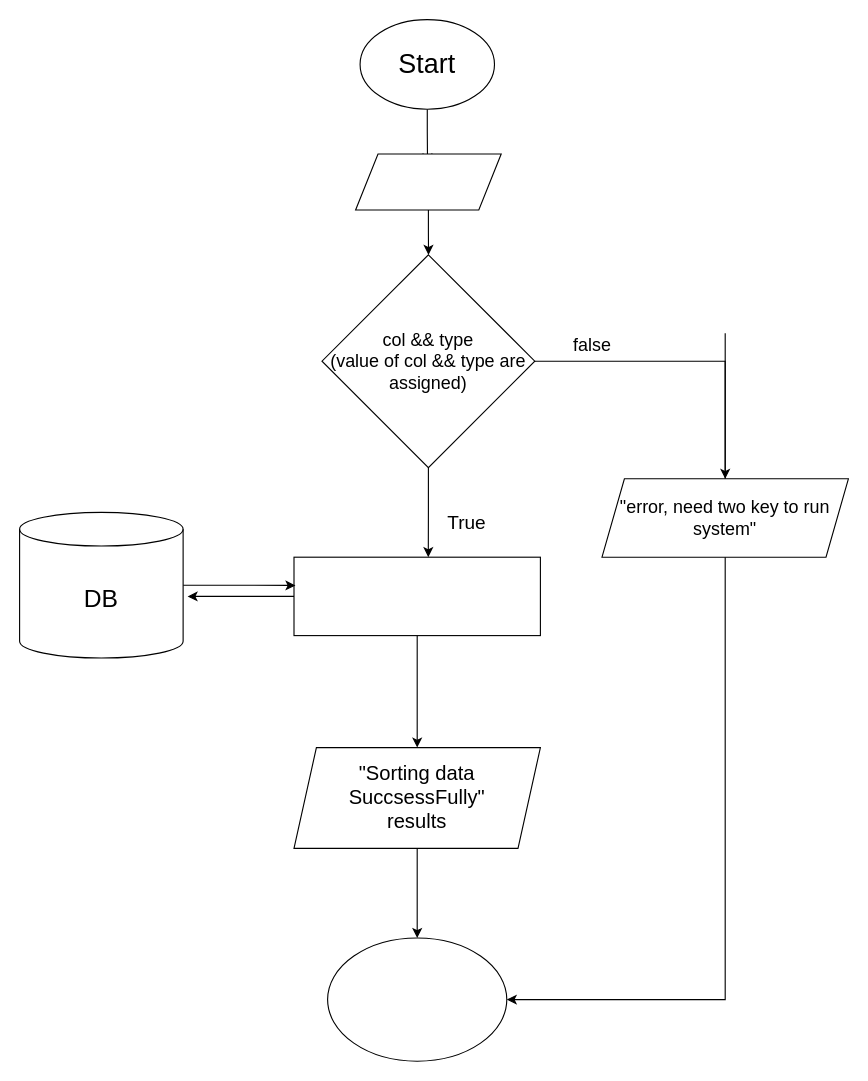
Image size: 868x1081. Some labels were removed from this diagram. Each missing label, with the centre of its shape:
"End" goes at point 416,999.
"Model : sortingProducts" goes at point 416,596.
"req.query (col) (type)" goes at point 427,181.
